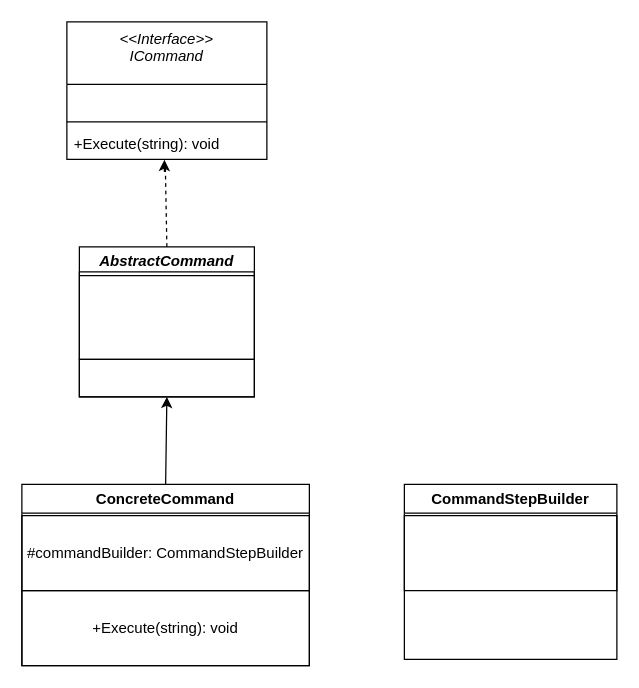
The diagram is 639 pixels wide and 688 high, and some of its shapes have lost their labels. Here are the shapes that lost their labels. From the top down, the centre of each, then its label:
At point (166, 315): "-commandCount: int #commandState: string +commandName: string".
At point (166, 377): "-CommandBuilder(): void".
At point (510, 552): "+MAXSTEPS: 10 + StepCount : int".
